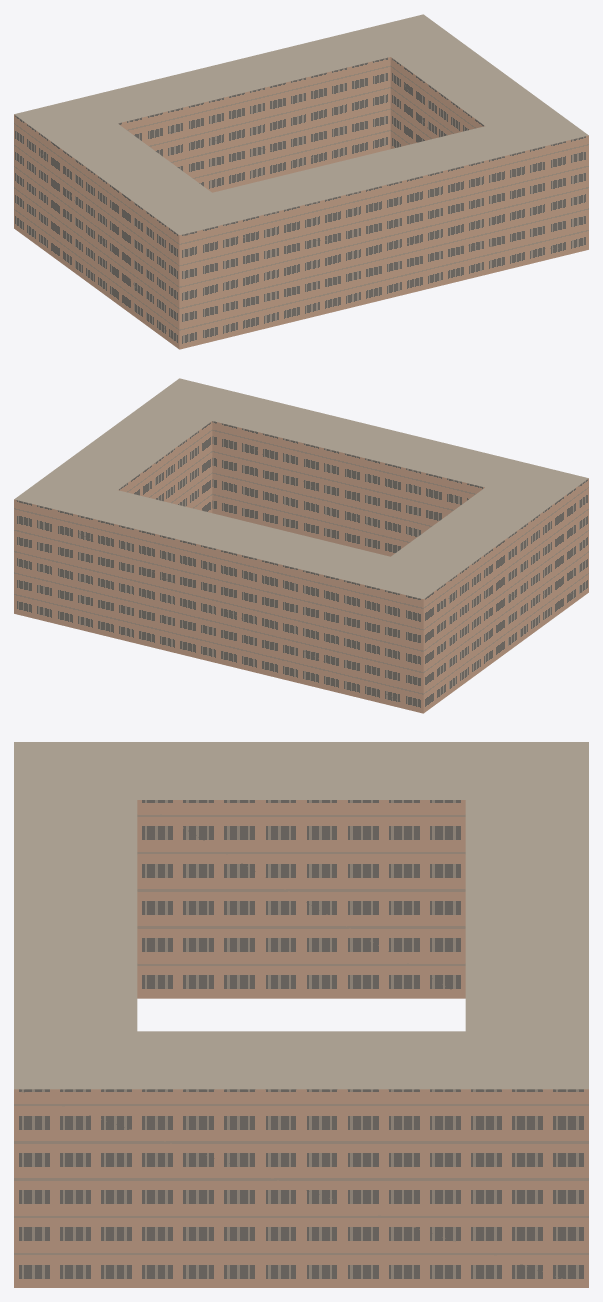
Rendered from courtyard-ring.glb.
3 renders of one model, top to bottom at view 1: azimuth 30°, elevation 25°; view 2: azimuth 150°, elevation 25°; view 3: azimuth 270°, elevation 25°, orthographic. The views are drawn at different scales.
Parts seen in each view (by area): view 1: Courtyard ring; view 2: Courtyard ring; view 3: Courtyard ring.
Boxes of the visible parts, <box> form: Courtyard ring: <box>14,14,588,349</box>; Courtyard ring: <box>14,378,588,713</box>; Courtyard ring: <box>14,742,588,1287</box>.
Bounding box in the file's own units: 60 × 16 × 42.
2 materials, 1 textured.
